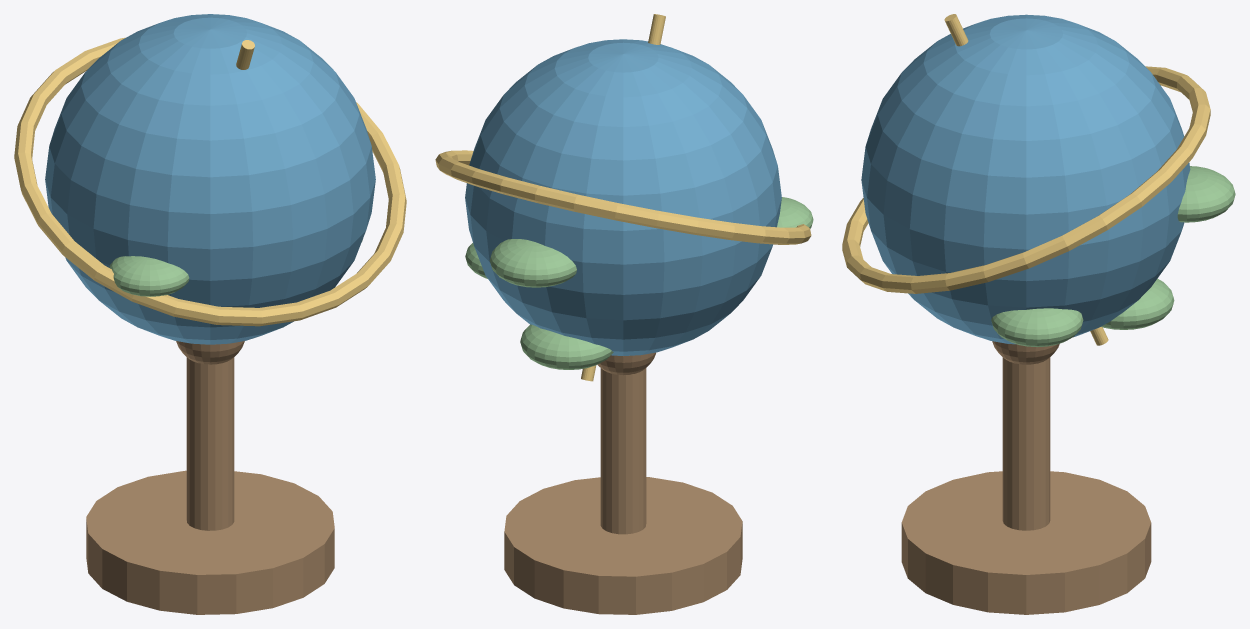
The model's file is globe.glb.
The picture shows the model from 3 angles, left to right: view 1: azimuth 30°, elevation 25°; view 2: azimuth 150°, elevation 25°; view 3: azimuth 270°, elevation 25°; orthographic projection. The views are drawn at different scales.
Visible parts, largest first — view 1: Sphere.001, Cylinder, Torus, Cylinder.001, Sphere.003, Sphere; view 2: Sphere.001, Cylinder, Cylinder.001, Torus, Sphere.002, Sphere.005, Sphere, Sphere.003, Cylinder.002; view 3: Sphere.001, Cylinder, Torus, Cylinder.001, Sphere.004, Sphere.002, Sphere.005, Sphere, Cylinder.002.
Part boxes in pixels (x1,y1,x2,y2): Sphere.001: [45, 14, 375, 344]; Cylinder: [86, 470, 334, 614]; Torus: [14, 37, 406, 326]; Cylinder.001: [186, 357, 234, 530]; Sphere.003: [109, 256, 189, 296]; Sphere: [176, 341, 244, 364]; Sphere.001: [465, 39, 781, 355]; Cylinder: [504, 477, 742, 614]; Cylinder.001: [600, 368, 646, 534]; Torus: [435, 150, 811, 244]; Sphere.002: [489, 239, 576, 287]; Sphere.005: [520, 324, 613, 369]; Sphere: [597, 352, 655, 375]; Sphere.003: [777, 197, 813, 228]; Cylinder.002: [581, 14, 665, 381]; Sphere.001: [861, 14, 1190, 344]; Cylinder: [901, 471, 1151, 614]; Torus: [842, 66, 1210, 293]; Cylinder.001: [1002, 357, 1050, 530]; Sphere.004: [991, 308, 1083, 347]; Sphere.002: [1177, 166, 1235, 222]; Sphere.005: [1101, 278, 1174, 329]; Sphere: [992, 341, 1059, 364]; Cylinder.002: [944, 14, 1108, 345].
Size of the model in its own units: 1.09 by 1.64 by 1.07.
